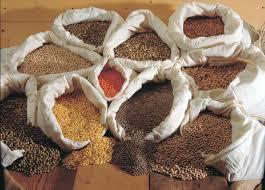Organic: (2, 3, 265, 190)
